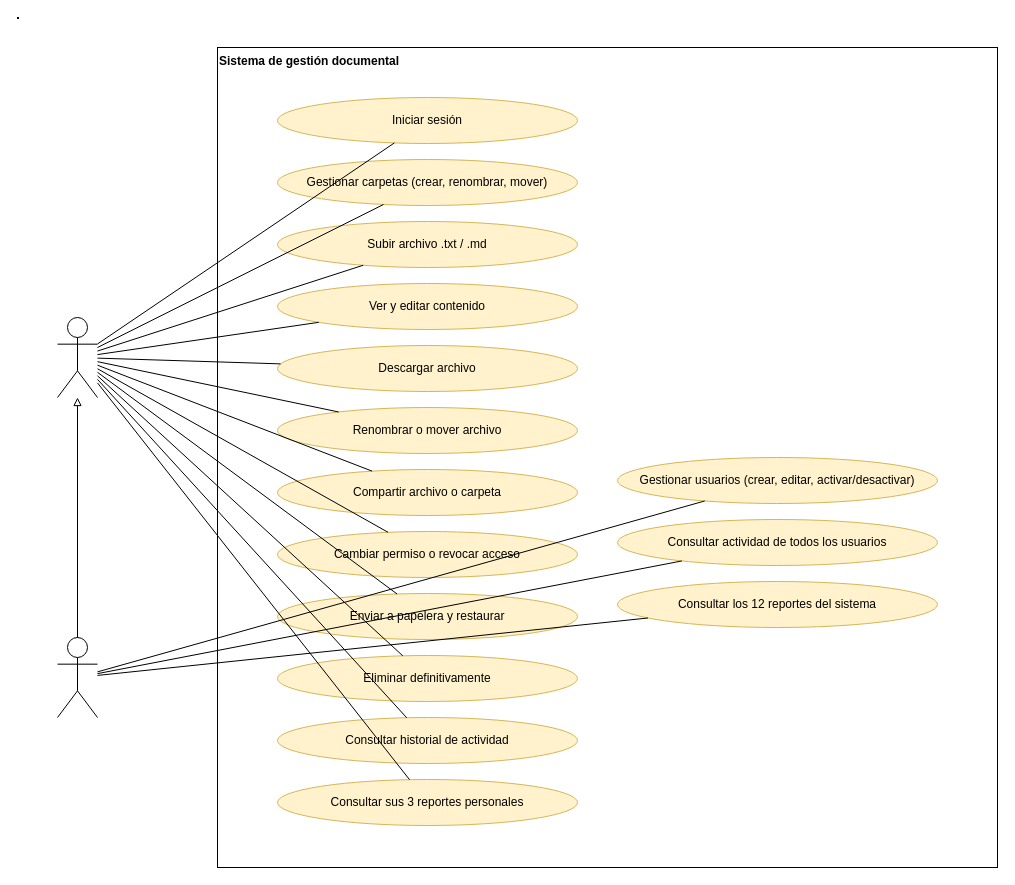
Image size: 1015x885. Some labels were removed from this diagram. Each missing label, with the box of its shape:
Administrador: (56, 636, 98, 718)
Usuario: (56, 316, 98, 398)
